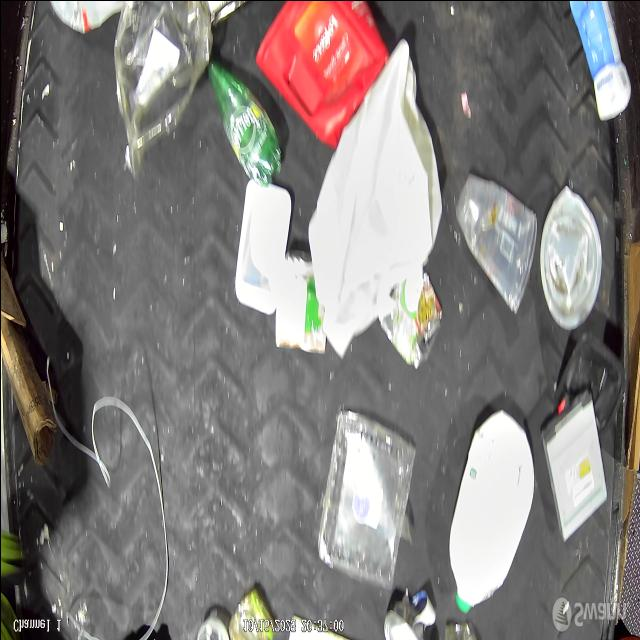can: (384, 257, 446, 373), (272, 247, 333, 355)
milk_jug: (308, 39, 442, 366), (448, 404, 536, 626)
non_white_jug: (255, 0, 389, 153)
plastic_bottle: (202, 44, 282, 192)
